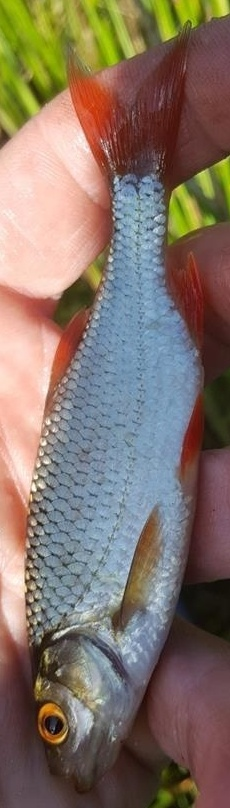Scardinius erythrophthalmus: (20, 20, 210, 788)
